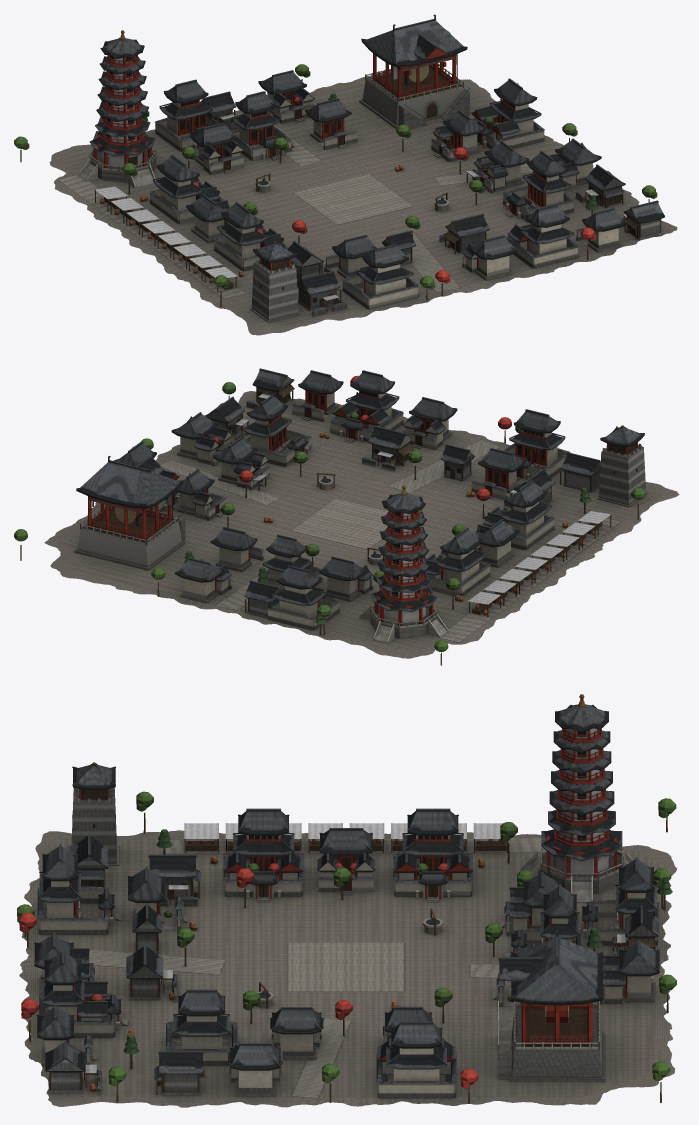
The model's file is kingdoms-town-big-b-sinic.glb.
3 views of the same model, one above another, from view 1: azimuth 30°, elevation 25°; view 2: azimuth 150°, elevation 25°; view 3: azimuth 270°, elevation 25° (orthographic). The views are drawn at different scales.
Parts seen in each view (by area): view 1: LOD0; view 2: LOD0; view 3: LOD0.
Boxes of the visible parts, <box> form: LOD0: <box>14,14,677,335</box>; LOD0: <box>14,368,679,665</box>; LOD0: <box>17,694,676,1107</box>.
Size of what is drawn, in the model's own units: 8.05 by 2.46 by 8.12.
3 materials, 3 textured.
